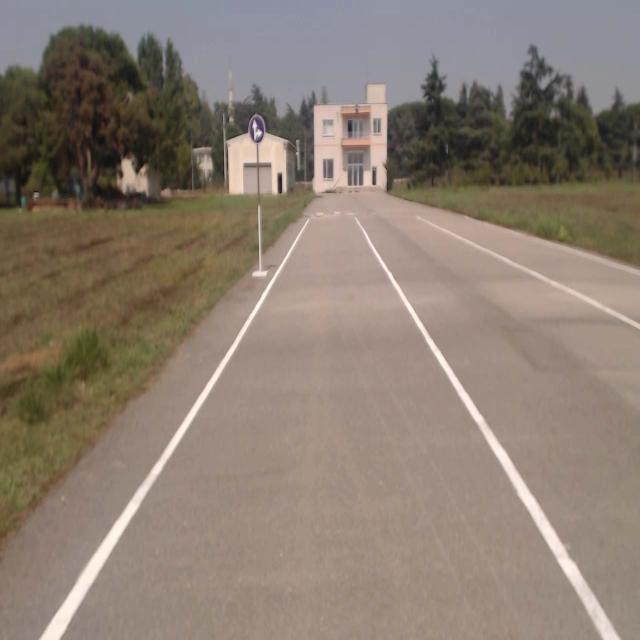ilerisag: (248, 114, 264, 143)
